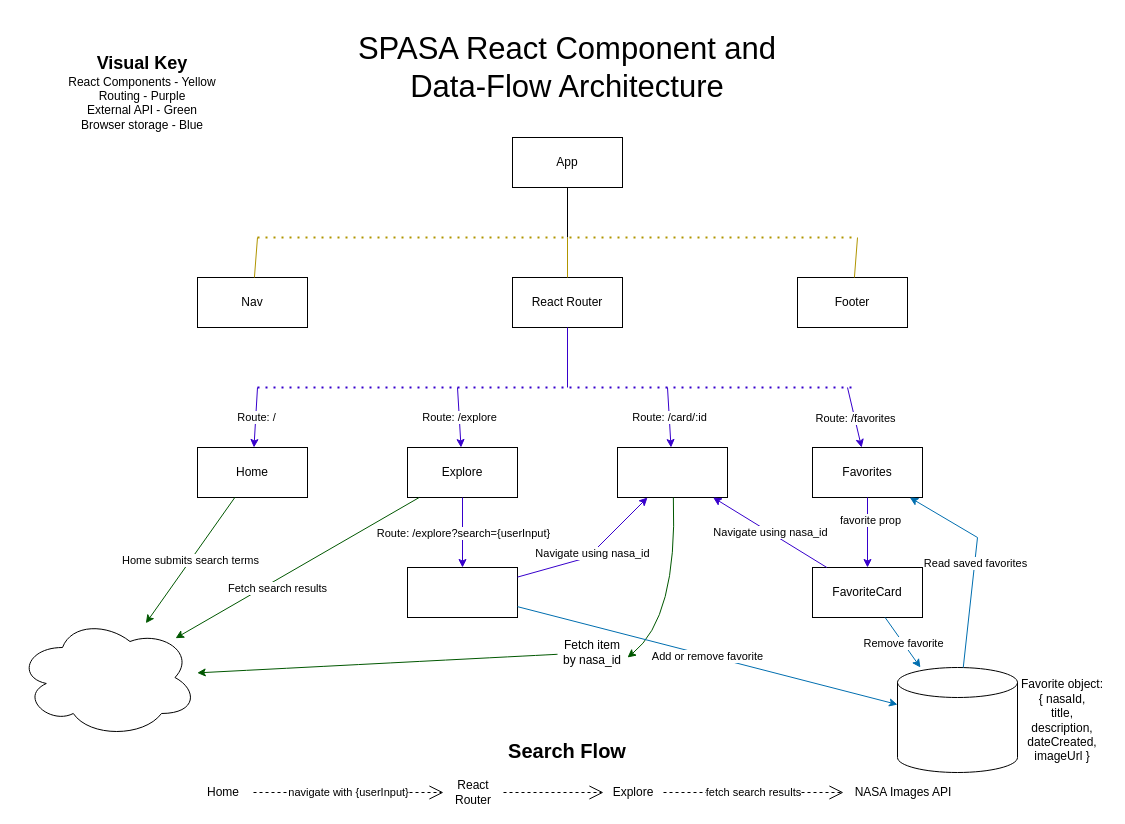
Image size: 1125x824. Some labels were removed from this diagram. Here are the shapes that lost their labels. From the top down, the centre of each, then its label:
At point 672,472: "CardInfo".
At point 462,592: "SpaceCard".
At point 107,677: "NASA Images API https://images-api.nasa.gov".
At point 957,719: "Browser localStorage key: spasaFavorites".
